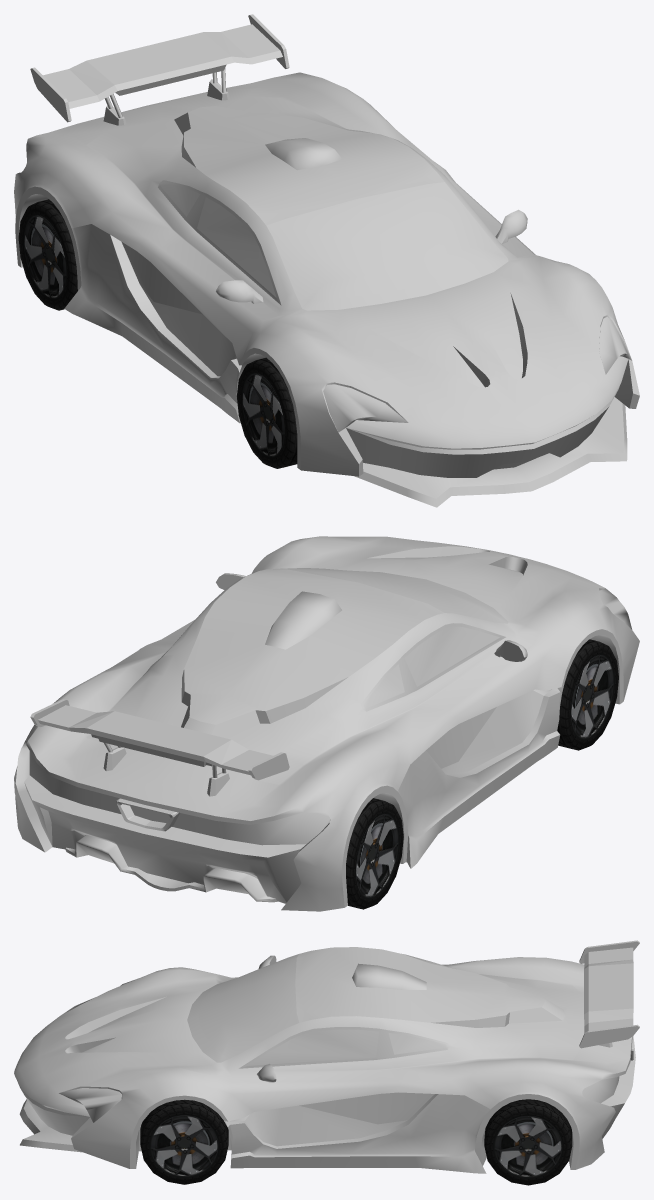
3 renders of one model, top to bottom at view 1: azimuth 30°, elevation 25°; view 2: azimuth 150°, elevation 25°; view 3: azimuth 270°, elevation 25°, orthographic. The views are drawn at different scales.
Visible parts, largest first — view 1: player_chassis, veh_wheel_fr, veh_wheel_b; view 2: player_chassis, veh_wheel_fr, veh_wheel_b; view 3: player_chassis, veh_wheel_b, veh_wheel_fl.
Part boxes in pixels (left/top/right/bottom): player_chassis: left=14, top=14, right=639, bottom=507; veh_wheel_fr: left=237, top=357, right=297, bottom=468; veh_wheel_b: left=18, top=199, right=77, bottom=310; player_chassis: left=14, top=536, right=639, bottom=911; veh_wheel_fr: left=557, top=639, right=618, bottom=750; veh_wheel_b: left=346, top=798, right=403, bottom=909; player_chassis: left=14, top=940, right=639, bottom=1173; veh_wheel_b: left=484, top=1099, right=572, bottom=1185; veh_wheel_fl: left=140, top=1099, right=228, bottom=1184.
Bounding box in the file's own units: 239 × 127 × 471.
